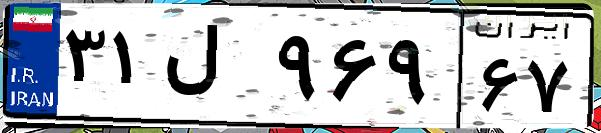1: (110, 28, 158, 98)
3: (57, 26, 110, 100)
6: (330, 28, 385, 110), (475, 38, 525, 113)
7: (525, 38, 570, 115)
9: (270, 28, 330, 110), (385, 28, 445, 110)
ل: (158, 20, 270, 120)
